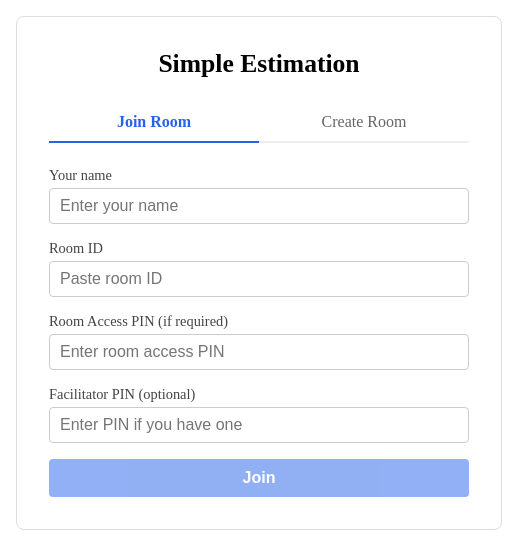
JoinForm › join mode (default) › Join button is enabled when name and room ID are filled
In the field with placeholder "Enter your name": (259, 206) top-left (49, 188), bottom-right (469, 224), type "Alice"
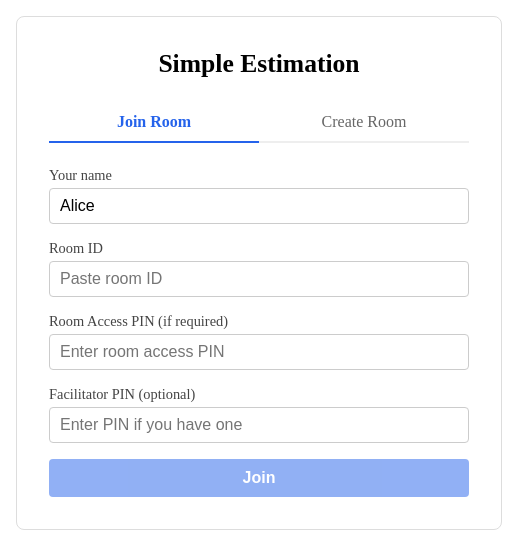
In the field with placeholder "Paste room ID": (259, 279) top-left (49, 261), bottom-right (469, 297), type "abc-123"
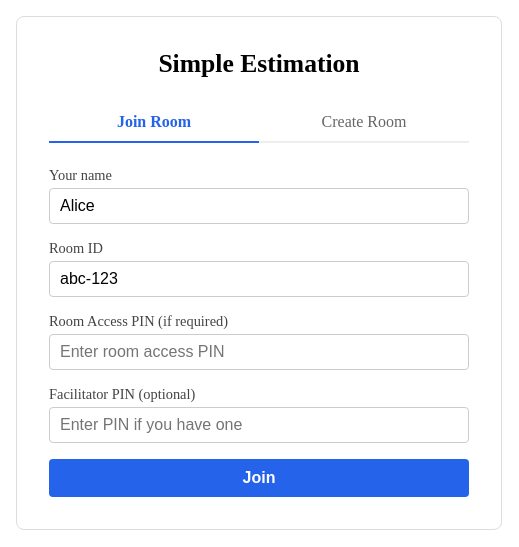
Expected: the button "Join" is enabled, top-left (49, 459), bottom-right (469, 497)
